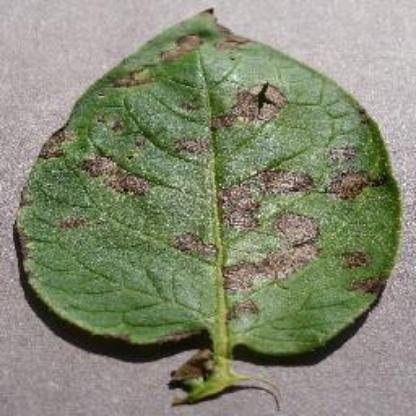Early-Blight: (15, 6, 415, 400)
